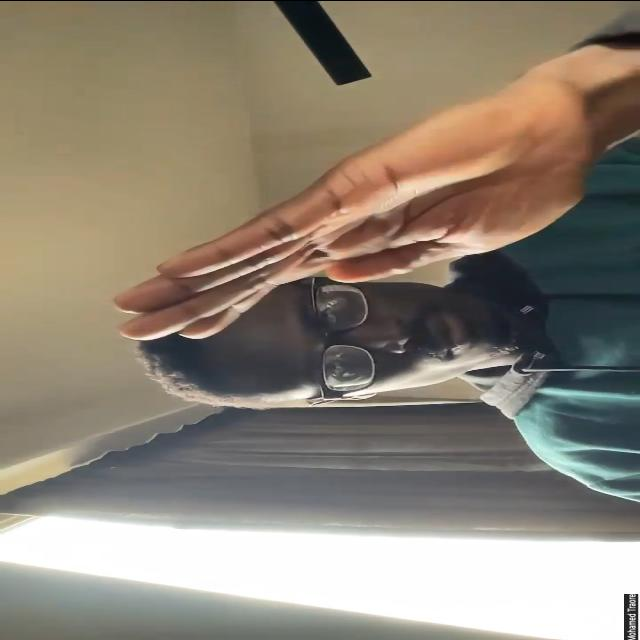Paper: (109, 78, 602, 342)
